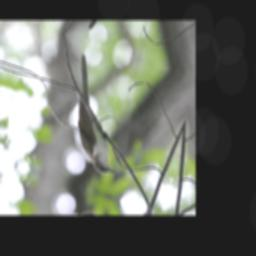Cuckoo: (54, 51, 141, 180)
